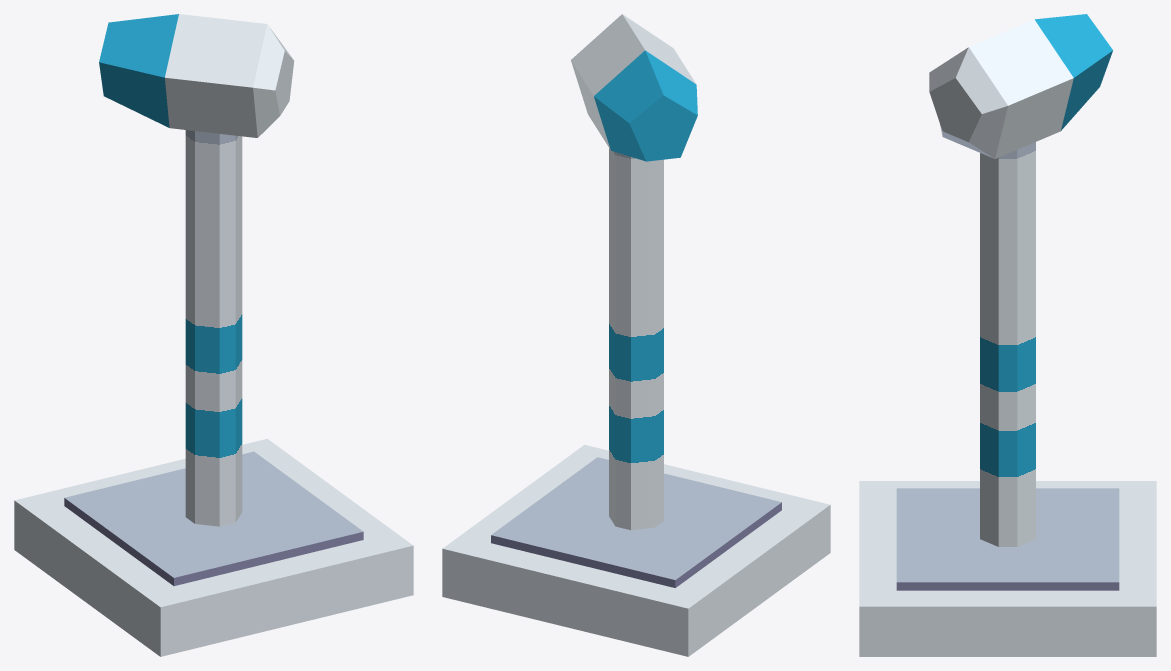
File: windmill_base.glb
The picture shows the model from 3 angles, left to right: view 1: azimuth 30°, elevation 25°; view 2: azimuth 150°, elevation 25°; view 3: azimuth 270°, elevation 25°; orthographic projection. The views are drawn at different scales.
Parts seen in each view (by area): view 1: Base; view 2: Base; view 3: Base.
Part boxes in pixels (x1,y1,x2,y2): Base: [14, 14, 413, 656]; Base: [442, 14, 830, 656]; Base: [859, 14, 1156, 656].
Bounding box in the file's own units: 2 × 4.19 × 2.
Materials: 1 (1 with a texture image).
